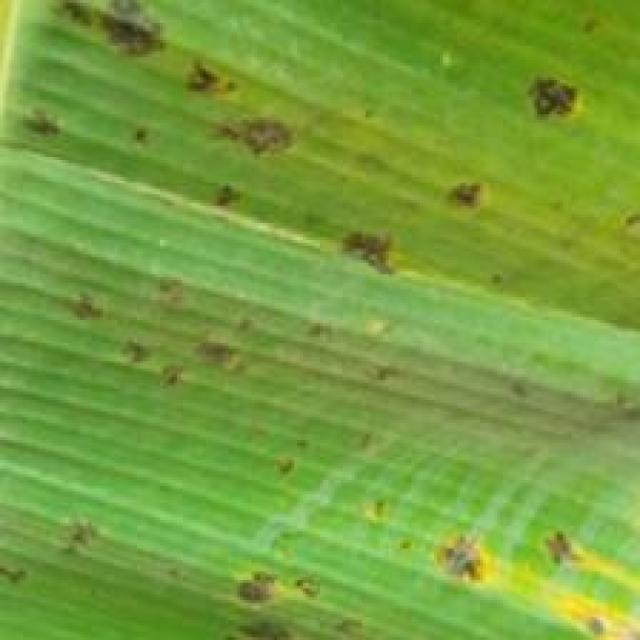Downey_mildrew: (54, 294, 640, 640), (3, 0, 640, 297), (0, 530, 36, 602)
